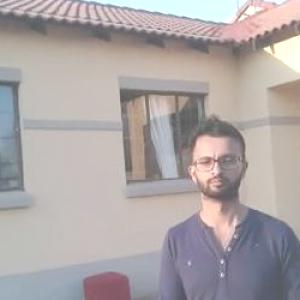follow: (155, 109, 299, 299)
